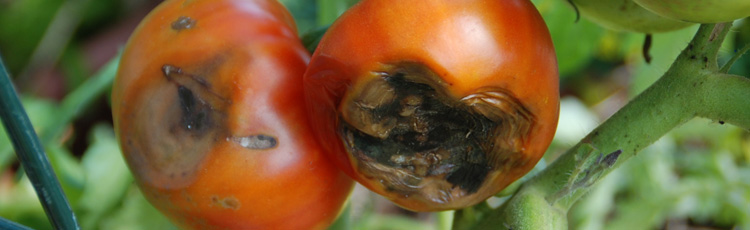blossom_rotw: (344, 43, 534, 211)
